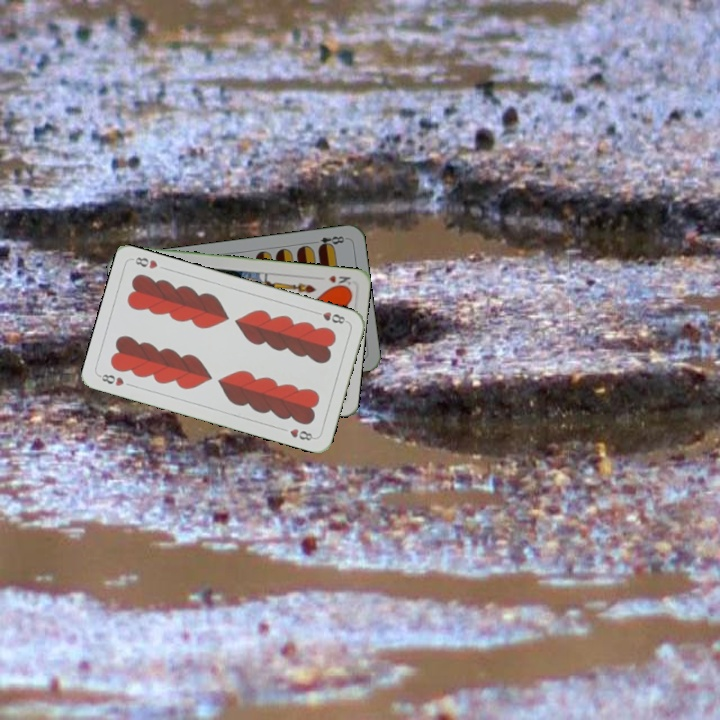E8: (308, 232, 349, 251)
H8: (310, 307, 350, 327), (96, 370, 127, 389)
HK: (325, 271, 353, 286)
